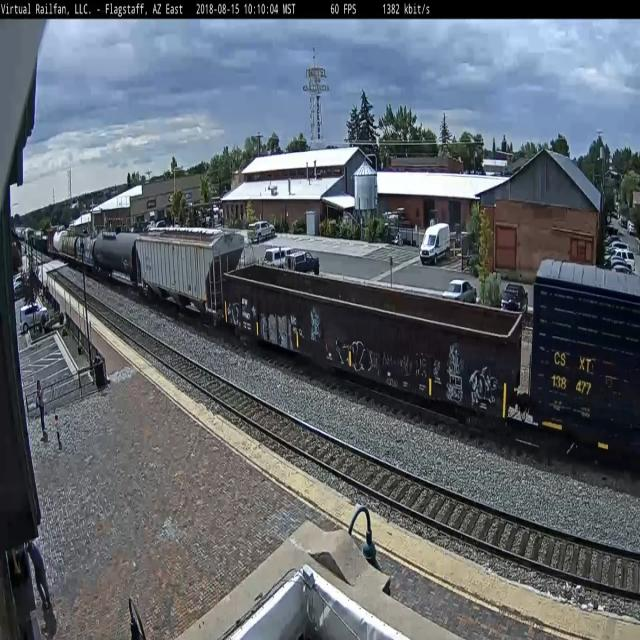boxcar: (525, 245, 640, 480)
gondola: (217, 256, 527, 444)
hopper: (132, 218, 248, 332)
